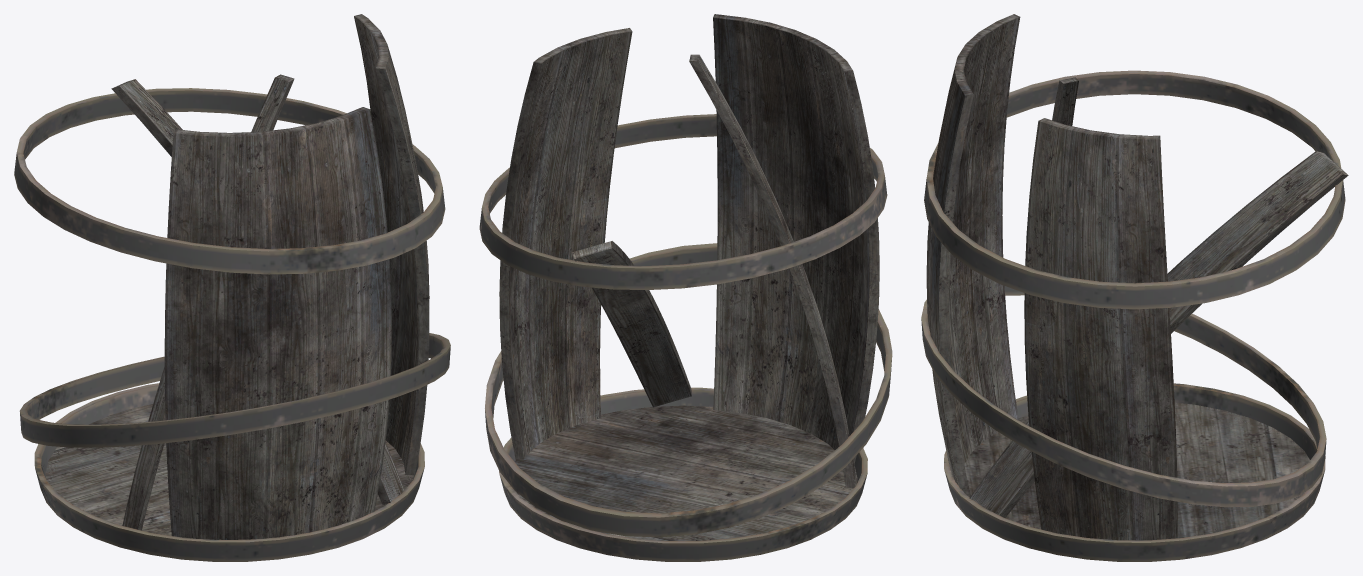
Rendered from SM_Barrel04.FBX.
The picture shows the model from 3 angles, left to right: view 1: azimuth 30°, elevation 25°; view 2: azimuth 150°, elevation 25°; view 3: azimuth 270°, elevation 25°; orthographic projection. The views are drawn at different scales.
Visible parts, largest first — view 1: SM_Barrel04; view 2: SM_Barrel04; view 3: SM_Barrel04.
Part boxes in pixels (x1,y1,x2,y2): SM_Barrel04: [14, 14, 450, 561]; SM_Barrel04: [479, 14, 892, 561]; SM_Barrel04: [921, 14, 1348, 561].
Bounding box in the file's own units: 140 × 150 × 141.
